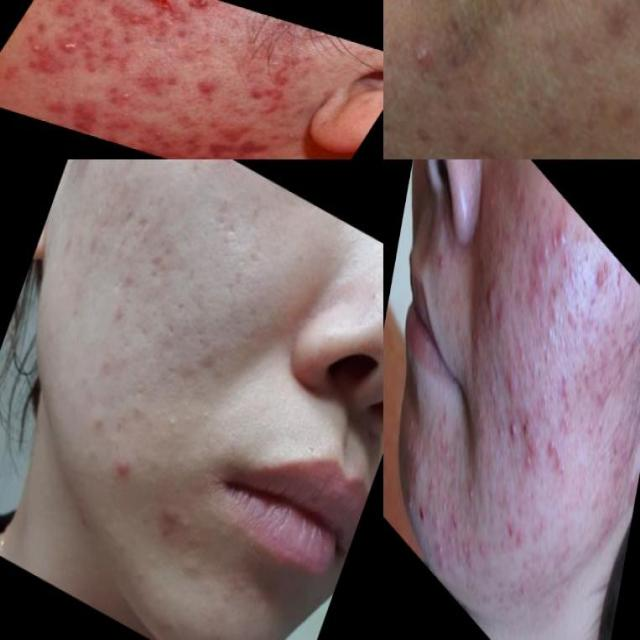acne_scars: (258, 62, 301, 92)
comedone: (164, 545, 216, 615), (121, 554, 154, 593), (159, 407, 187, 445), (222, 96, 254, 122), (176, 512, 196, 540)
cystic: (479, 264, 501, 334)
folliculitis: (273, 128, 301, 148), (19, 40, 46, 60)
milium: (110, 108, 136, 127)
papule: (100, 436, 148, 501), (524, 234, 554, 325), (585, 240, 614, 313), (146, 494, 184, 546), (554, 366, 578, 430), (503, 399, 523, 456), (432, 417, 452, 465), (383, 40, 397, 104), (551, 213, 568, 264), (216, 149, 256, 159)
pustule: (399, 28, 442, 83), (427, 228, 454, 293), (464, 346, 487, 404), (458, 462, 481, 519), (500, 356, 520, 414), (428, 530, 451, 578), (105, 85, 139, 109), (400, 483, 417, 527), (422, 470, 439, 510)
sebo-crystan-conglo: (513, 405, 541, 484), (453, 526, 481, 590), (543, 421, 568, 483), (53, 34, 86, 57), (141, 0, 180, 19), (180, 0, 217, 16)
